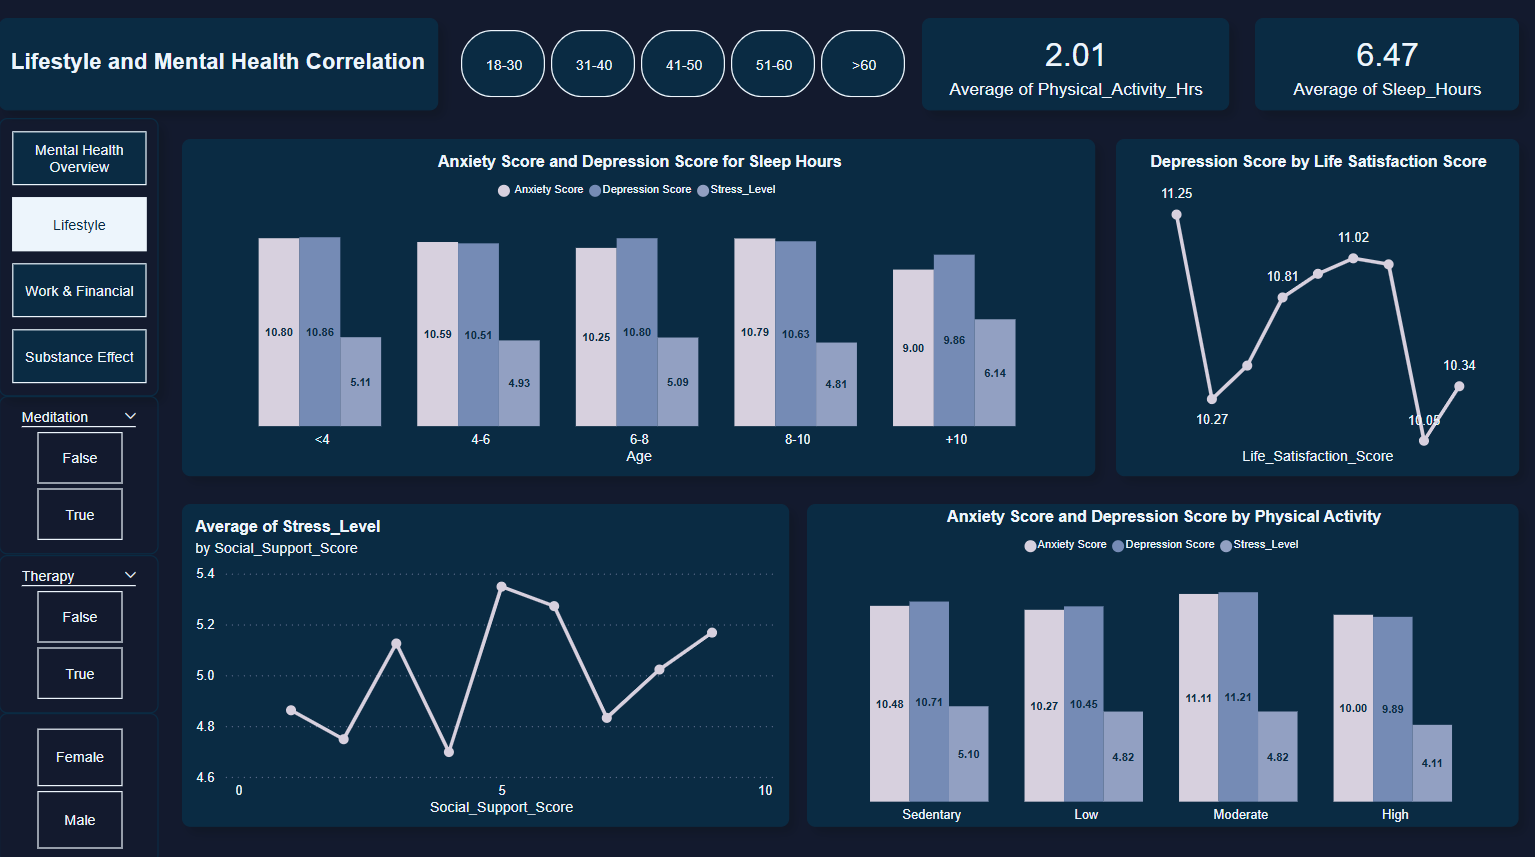

This screenshot's page, from the dashboard's own definition file:
{"tool":"powerbi","page":{"name":"Lifestyle","canvas":[1280,720],"ordinal":1},"visuals":[{"type":"shape","box":[0,15.6,365.6,76.7],"z":0},{"type":"textbox","box":[0,42,365,50],"z":1000},{"type":"clusteredColumnChart","title":"Anxiety Score and Depression Score for Sleep Hours","fields":{"Y":["Avg(anxiety_depression_data.Anxiety_Score)","Avg(anxiety_depression_data.Depression_Score)","Avg(anxiety_depression_data.Stress_Level)"],"Category":["Sleep Hours.Sleep_Hours_group"]},"box":[152.2,116.7,761.1,281.1],"z":2000},{"type":"card","fields":{"Values":["Avg(anxiety_depression_data.Sleep_Hours)"]},"box":[1047,16,220,77],"z":3000},{"type":"clusteredColumnChart","title":"Anxiety Score and Depression Score by Physical Activity","fields":{"Category":["Physical Activity Hours.Physical_Activity_Status"],"Y":["Avg(anxiety_depression_data.Anxiety_Score)","Avg(anxiety_depression_data.Depression_Score)","Avg(anxiety_depression_data.Stress_Level)"]},"box":[673.3,421.1,593.3,268.9],"z":4000},{"type":"card","fields":{"Values":["Avg(anxiety_depression_data.Physical_Activity_Hrs)"]},"box":[769,16,256,77],"z":5000},{"type":"lineChart","fields":{"Category":["anxiety_depression_data.Social_Support_Score"],"Y":["Avg(anxiety_depression_data.Stress_Level)"]},"box":[152.2,421.1,505.6,268.9],"z":6000},{"type":"advancedSlicerVisual","fields":{"Values":["Ages.Age_groups"]},"box":[375,16,394,76],"z":7000},{"type":"slicer","fields":{"Values":["anxiety_depression_data.Gender"]},"box":[0,595,133,125],"z":8000},{"type":"pageNavigator","box":[0,99,133,232],"z":9000},{"type":"slicer","fields":{"Values":["anxiety_depression_data.Therapy"]},"box":[0,463,133,132],"z":10000},{"type":"slicer","fields":{"Values":["anxiety_depression_data.Meditation"]},"box":[0,331,133,132],"z":11000},{"type":"lineChart","title":"Depression Score by Life Satisfaction Score","fields":{"Category":["anxiety_depression_data.Life_Satisfaction_Score"],"Y":["Avg(anxiety_depression_data.Depression_Score)"]},"box":[931.1,116.5,335.6,281.1],"z":12000}]}

Visuals, with their boxes in screenshot pixels (x1, y1, x2, y2), scaled from the page's 1280x720 canvas onto the 1535x857 screenshot:
shape: 0, 19, 438, 110
textbox: 0, 50, 438, 110
"Anxiety Score and Depression Score for Sleep Hours" clusteredColumnChart: 183, 139, 1095, 473
card - Avg(anxiety_depression_data.Sleep_Hours): 1256, 19, 1519, 111
"Anxiety Score and Depression Score by Physical Activity" clusteredColumnChart: 807, 501, 1519, 821
card - Avg(anxiety_depression_data.Physical_Activity_Hrs): 922, 19, 1229, 111
lineChart - anxiety_depression_data.Social_Support_Score x Avg(anxiety_depression_data.Stress_Level): 183, 501, 789, 821
advancedSlicerVisual - Ages.Age_groups: 450, 19, 922, 110
slicer - anxiety_depression_data.Gender: 0, 708, 159, 856
pageNavigator: 0, 118, 159, 394
slicer - anxiety_depression_data.Therapy: 0, 551, 159, 708
slicer - anxiety_depression_data.Meditation: 0, 394, 159, 551
"Depression Score by Life Satisfaction Score" lineChart: 1117, 139, 1519, 473
